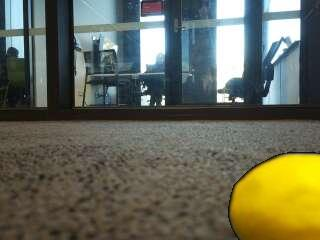lemon: (231, 153, 320, 239)
